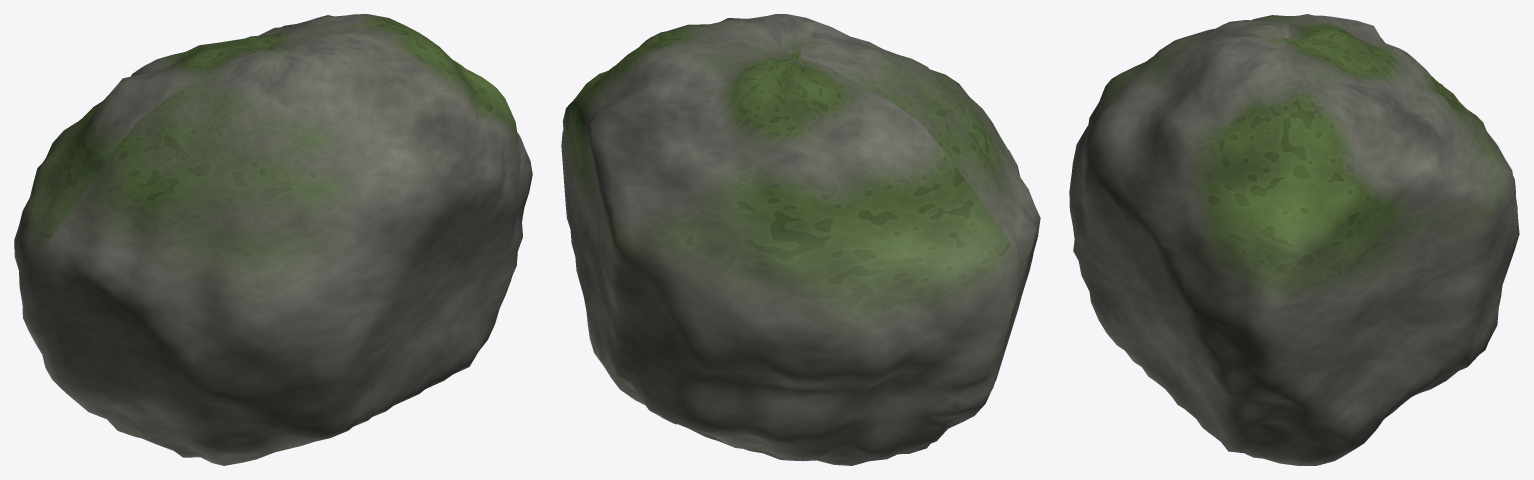
Rendered from PZ_R04_Granite_Rock_Moss.glb.
3 renders of one model, left to right at view 1: azimuth 30°, elevation 25°; view 2: azimuth 150°, elevation 25°; view 3: azimuth 270°, elevation 25°, orthographic.
Visible parts, largest first — view 1: RENDER_R04_Granite_Rock_Moss; view 2: RENDER_R04_Granite_Rock_Moss; view 3: RENDER_R04_Granite_Rock_Moss.
Part boxes in pixels (x1,y1,x2,y2): RENDER_R04_Granite_Rock_Moss: [14, 14, 532, 465]; RENDER_R04_Granite_Rock_Moss: [561, 14, 1040, 465]; RENDER_R04_Granite_Rock_Moss: [1069, 14, 1519, 465].
Bounding box in the file's own units: 1.1 × 0.81 × 0.91.
1 material, 1 textured.
